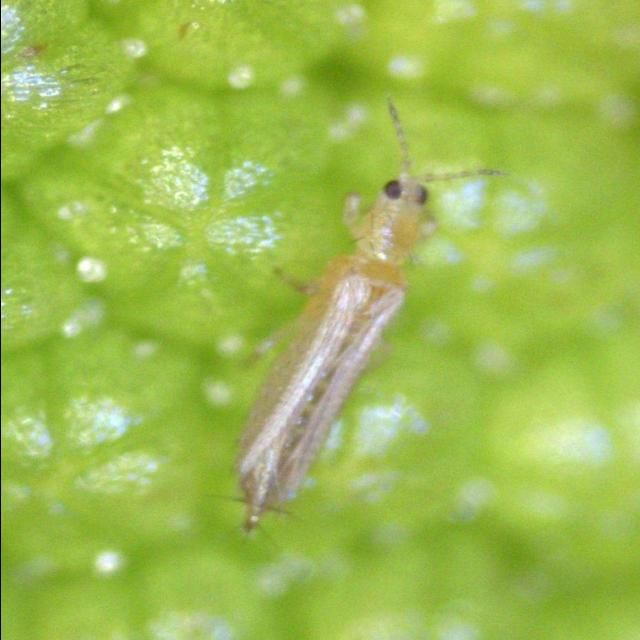thrip: (215, 109, 530, 546)
